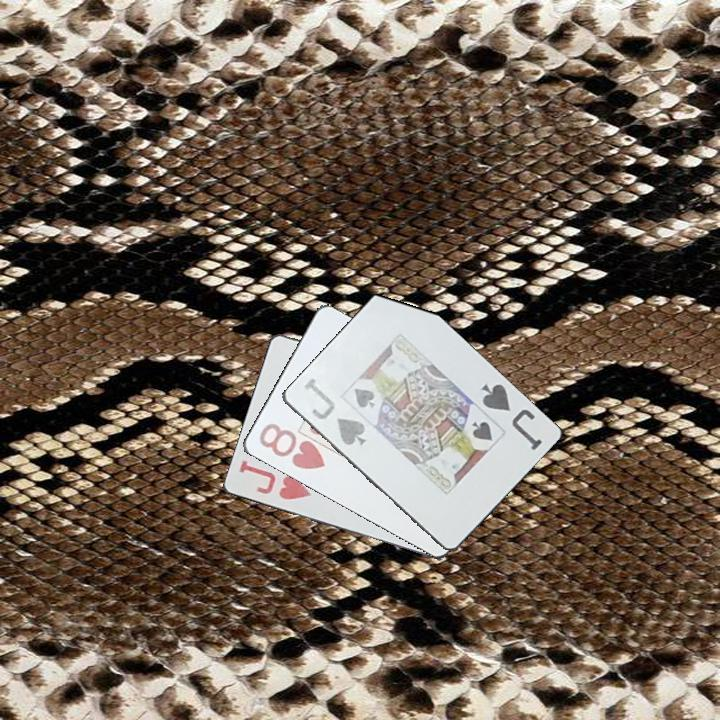8h: (255, 420, 327, 472)
Jh: (235, 457, 314, 503)
Js: (299, 374, 369, 448), (476, 380, 545, 453)
